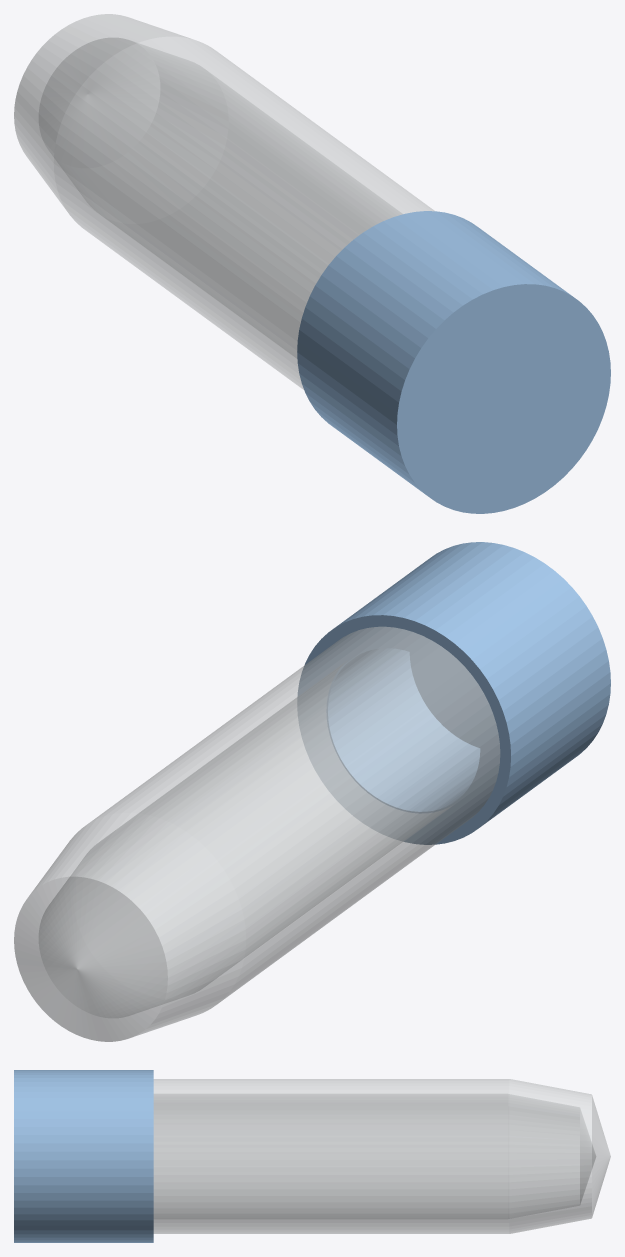
The model's file is cryovial.glb.
The picture shows the model from 3 angles, top to bottom: view 1: azimuth 30°, elevation 25°; view 2: azimuth 150°, elevation 25°; view 3: azimuth 270°, elevation 25°; orthographic projection. The views are drawn at different scales.
Parts seen in each view (by area): view 1: g0, g1; view 2: g0, g1; view 3: g0, g1.
Boxes of the visible parts, left/top/right/bottom form: g0: left=14, top=14, right=434, bottom=389; g1: left=297, top=211, right=610, bottom=513; g0: left=14, top=626, right=500, bottom=1041; g1: left=297, top=542, right=610, bottom=844; g0: left=153, top=1079, right=610, bottom=1233; g1: left=14, top=1070, right=153, bottom=1242.
Bounding box in the file's own units: 0.0139 × 0.0139 × 0.048.
